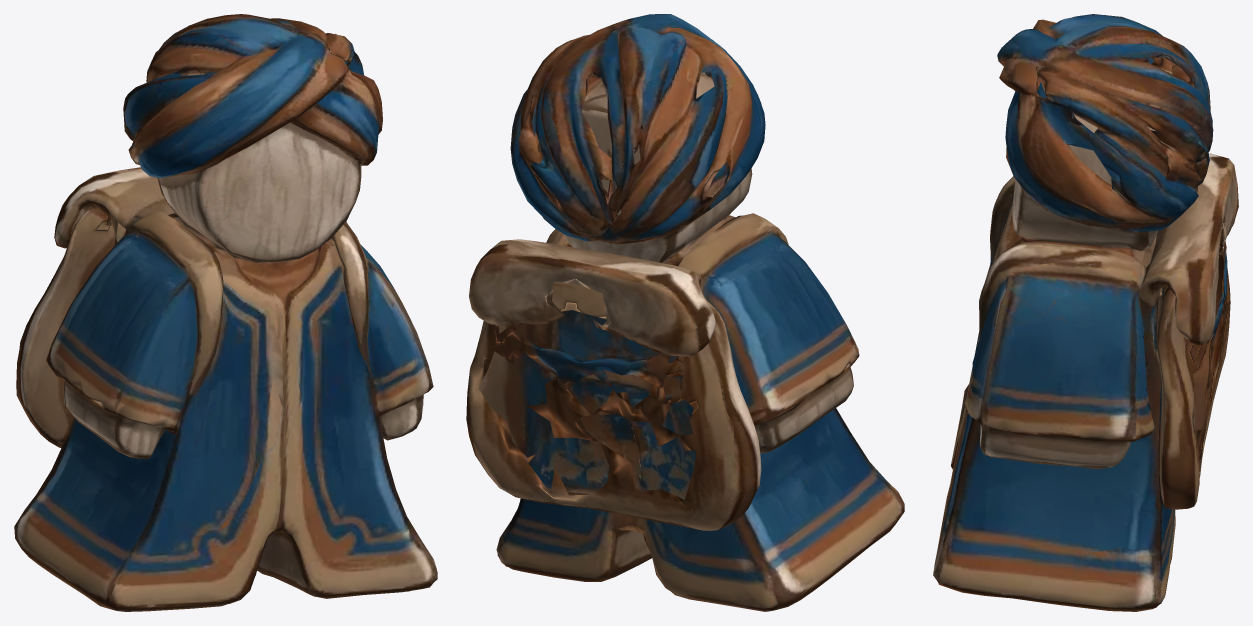
The model's file is meeple.glb.
The picture shows the model from 3 angles, left to right: view 1: azimuth 30°, elevation 25°; view 2: azimuth 150°, elevation 25°; view 3: azimuth 270°, elevation 25°; orthographic projection. The views are drawn at different scales.
Visible parts, largest first — view 1: geometry_0; view 2: geometry_0; view 3: geometry_0.
Boxes of the visible parts, x1,y1,x2,y2 form: geometry_0: (14,14,437,611); geometry_0: (466,14,904,611); geometry_0: (933,14,1238,611).
Size of the model in its own units: 0.5651 by 0.8516 by 0.4419.
1 material, 1 textured.
